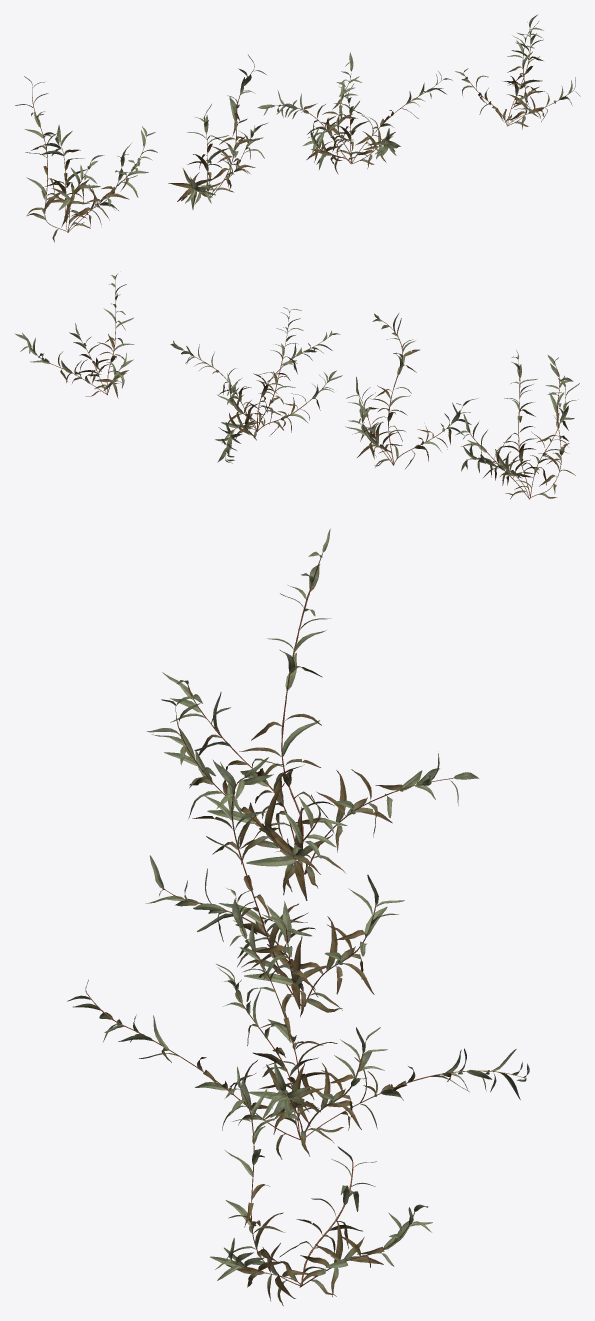
File: shrub_02.glb
The picture shows the model from 3 angles, top to bottom: view 1: azimuth 30°, elevation 25°; view 2: azimuth 150°, elevation 25°; view 3: azimuth 270°, elevation 25°; orthographic projection. The views are drawn at different scales.
Visible parts, largest first — view 1: shrub_02_a; view 2: shrub_02_a; view 3: shrub_02_a.
Boxes of the visible parts, x1,y1,x2,y2 form: shrub_02_a: (15, 14, 580, 242); shrub_02_a: (14, 274, 579, 499); shrub_02_a: (67, 528, 529, 1305).
Bounding box in the file's own units: 6.05 × 1.7 × 2.29.
Materials: 1 (1 with a texture image).
